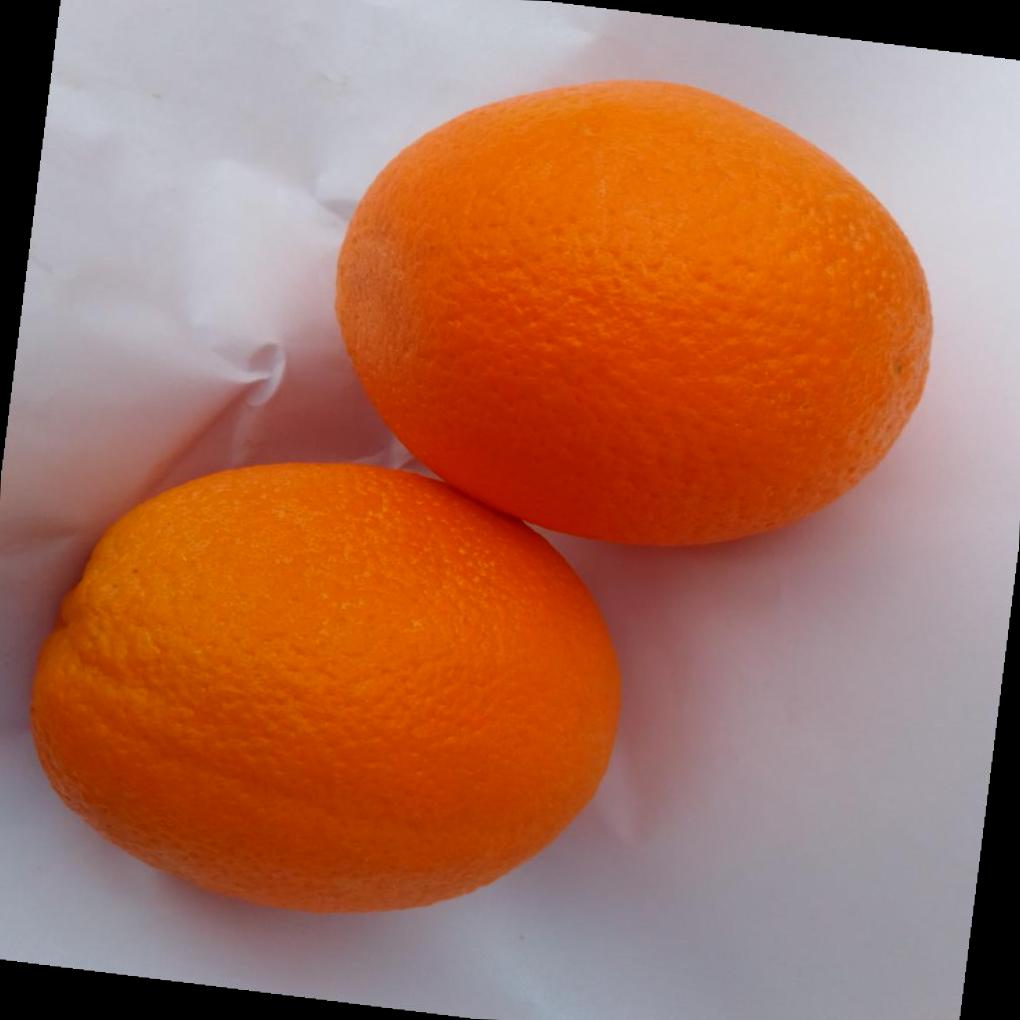FreshGuava: (25, 79, 936, 920)
